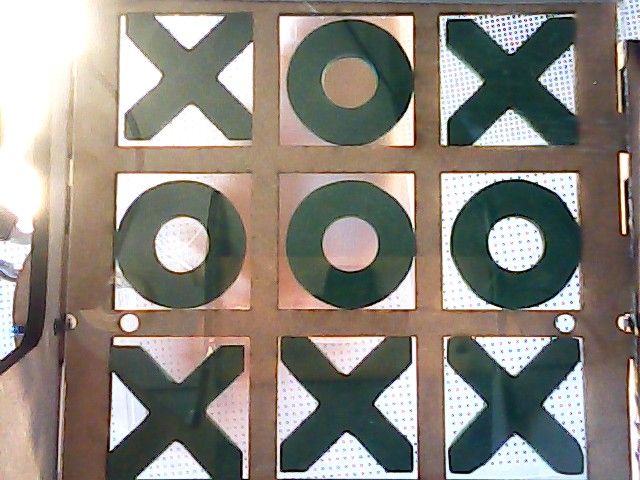O: (116, 179, 247, 314), (447, 177, 579, 310), (276, 178, 413, 305), (284, 18, 420, 145)
X: (443, 336, 589, 475), (107, 344, 246, 480), (278, 335, 411, 474), (446, 17, 578, 149), (121, 11, 252, 143)
